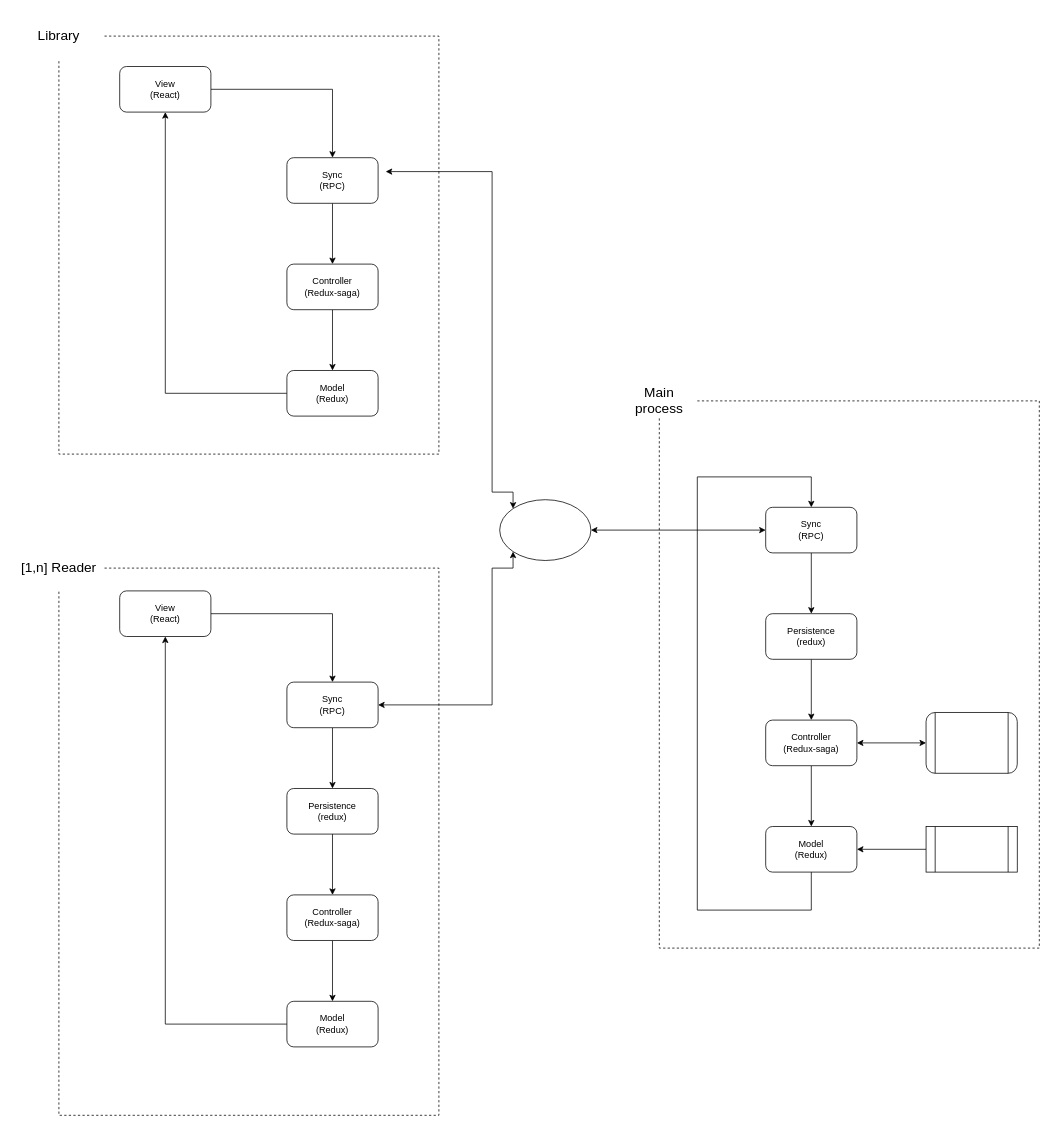
The diagram is 1053 pixels wide and 1129 high, and some of its shapes have lost their labels. Each missing label, with the centre of its shape:
"Application initialisation State Rehydration" belongs at (x=971, y=849).
"Electron FileSysem Network Lcp" belongs at (x=971, y=742).
"Inter Processus Communication (RPC)" belongs at (x=545, y=529).
